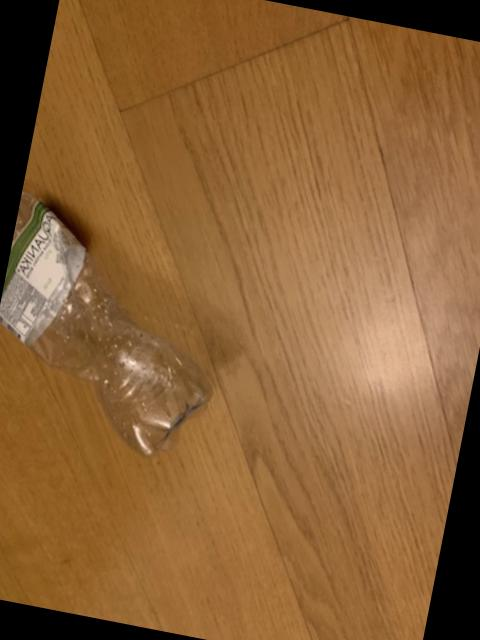plastic: (0, 194, 207, 455)
